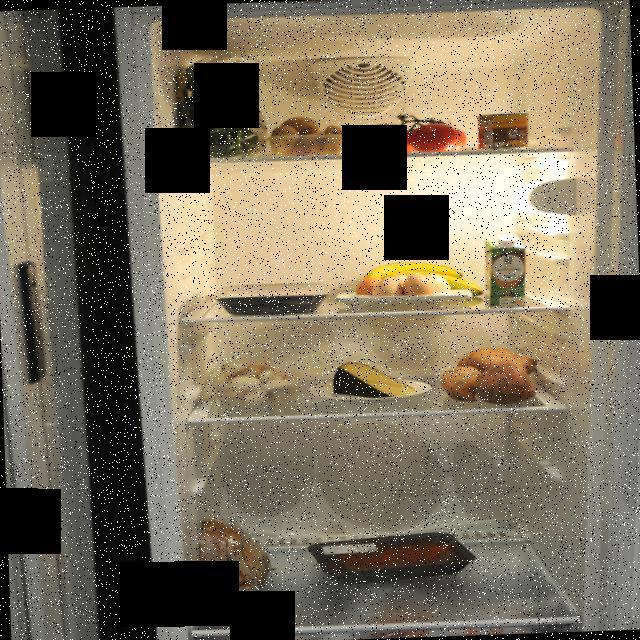banana: (360, 258, 486, 302)
beef: (305, 528, 480, 589)
bread: (198, 513, 274, 596)
cheese: (329, 358, 417, 401)
corn: (475, 110, 534, 154)
eggs: (354, 274, 450, 310)
heavy_cream: (483, 235, 529, 308)
mushrooms: (214, 355, 301, 406)
potato: (264, 114, 356, 158)
spinach: (176, 56, 274, 162)
sweet_potato: (434, 344, 541, 406)
tomato: (359, 98, 467, 154)
